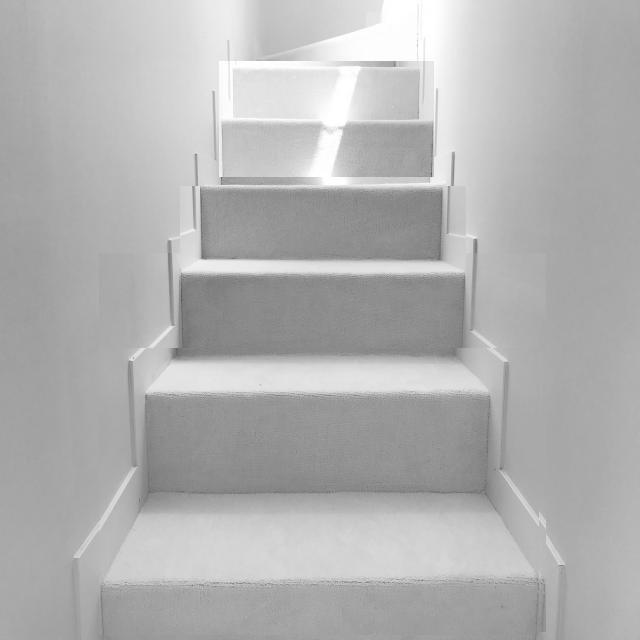stair: (100, 70, 538, 637), (99, 254, 546, 632), (100, 349, 539, 635), (180, 186, 466, 347), (219, 61, 434, 177)
